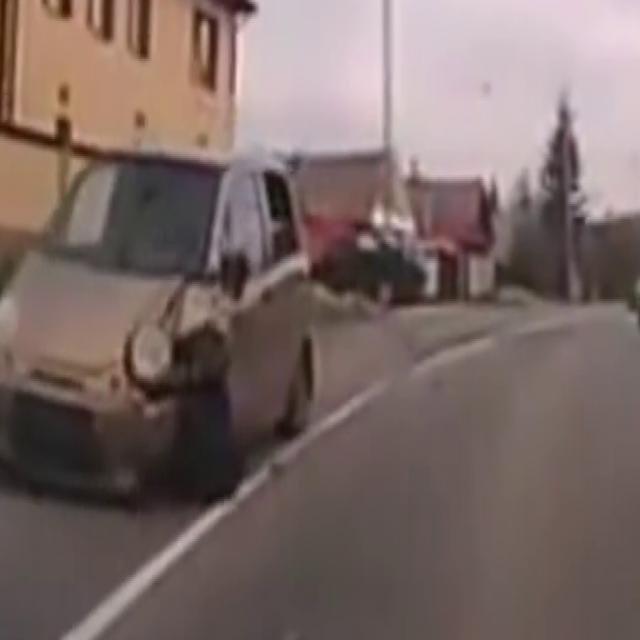accident: (0, 140, 327, 542)
